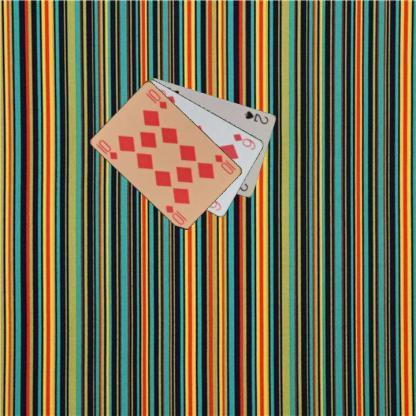10d: (93, 137, 119, 161), (212, 152, 237, 176)
2s: (242, 108, 270, 126)
6d: (230, 130, 258, 151)
